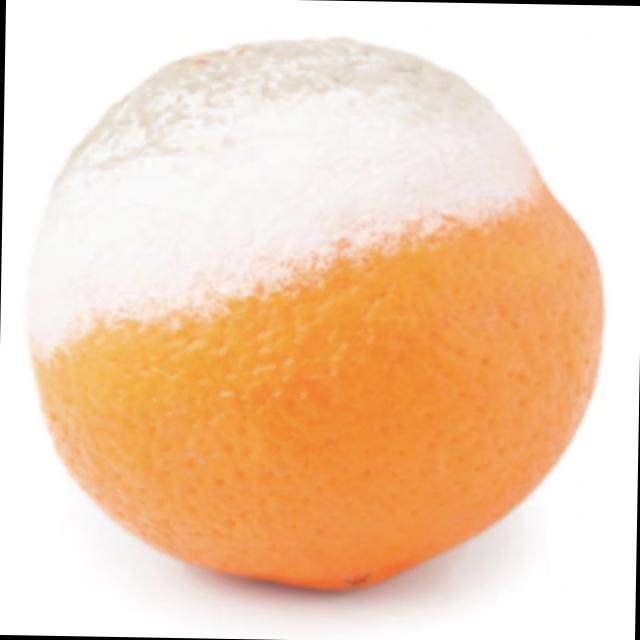rotten-orange: (20, 24, 604, 598)
